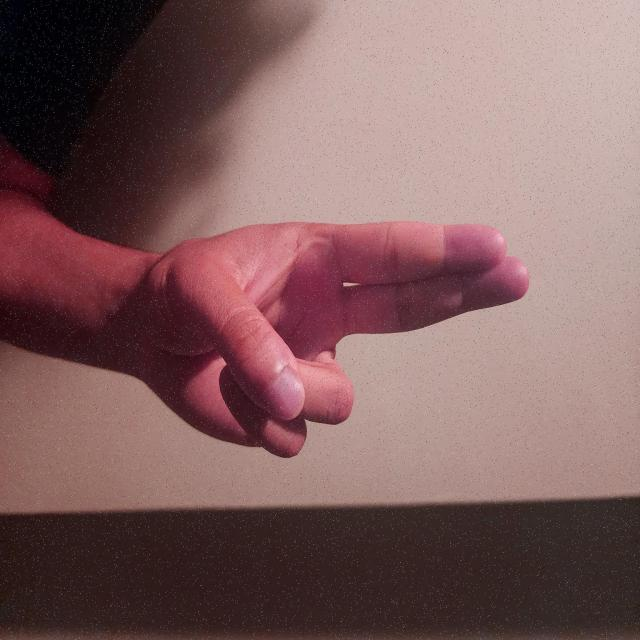U: (320, 137, 508, 640)
